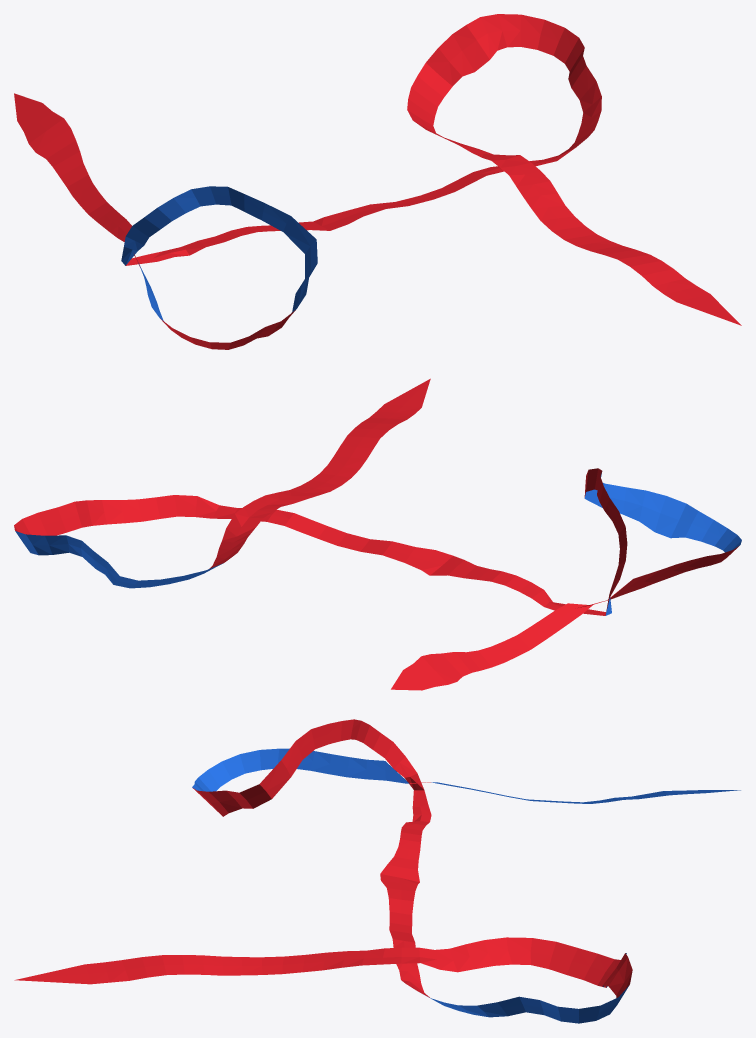
The picture shows the model from 3 angles, top to bottom: view 1: azimuth 30°, elevation 25°; view 2: azimuth 150°, elevation 25°; view 3: azimuth 270°, elevation 25°; orthographic projection. The views are drawn at different scales.
Visible parts, largest first — view 1: 769; view 2: 769; view 3: 769.
Boxes of the visible parts, <box> form: 769: <box>14,14,741,349</box>; 769: <box>14,378,741,690</box>; 769: <box>14,719,740,1023</box>.
Size of the model in its own units: 1.54 by 0.26 by 1.75.
